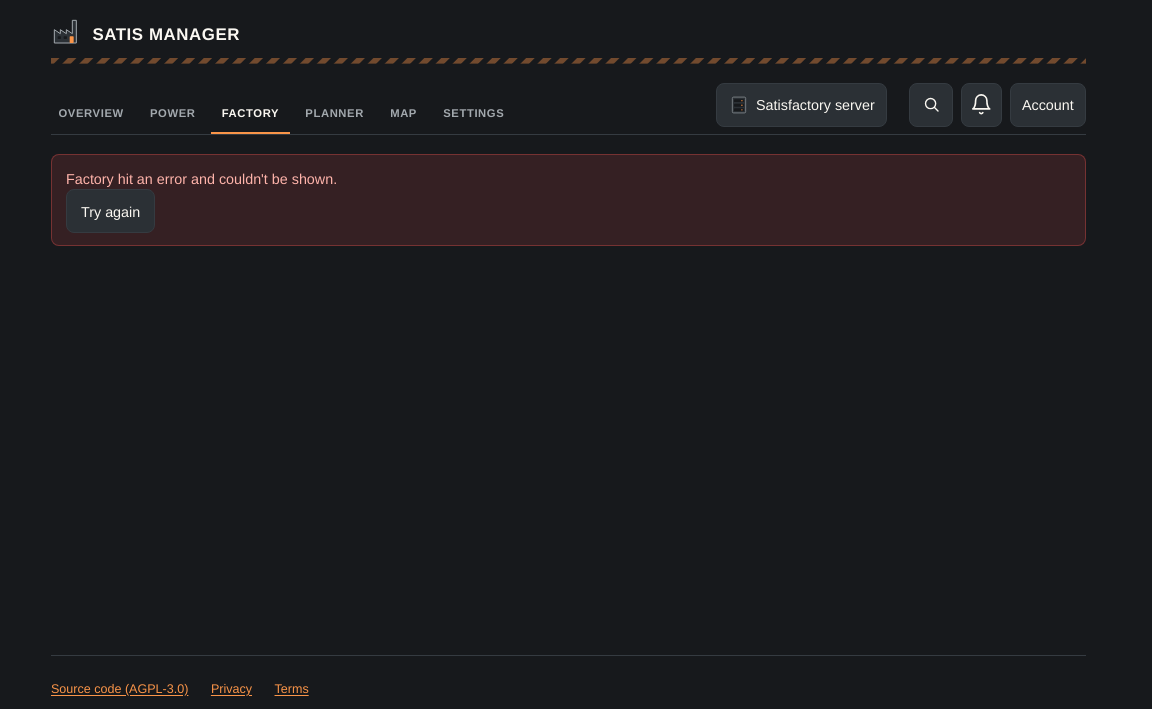
Test case: crash probe across tabs (mock mode) › crashes only the requested page, and not again after leaving and coming back
expect the message named "Factory error" is shown: met, box [51, 154, 1086, 246]
Step 1. Click the link "Power" → [173, 111], box [150, 102, 196, 120]
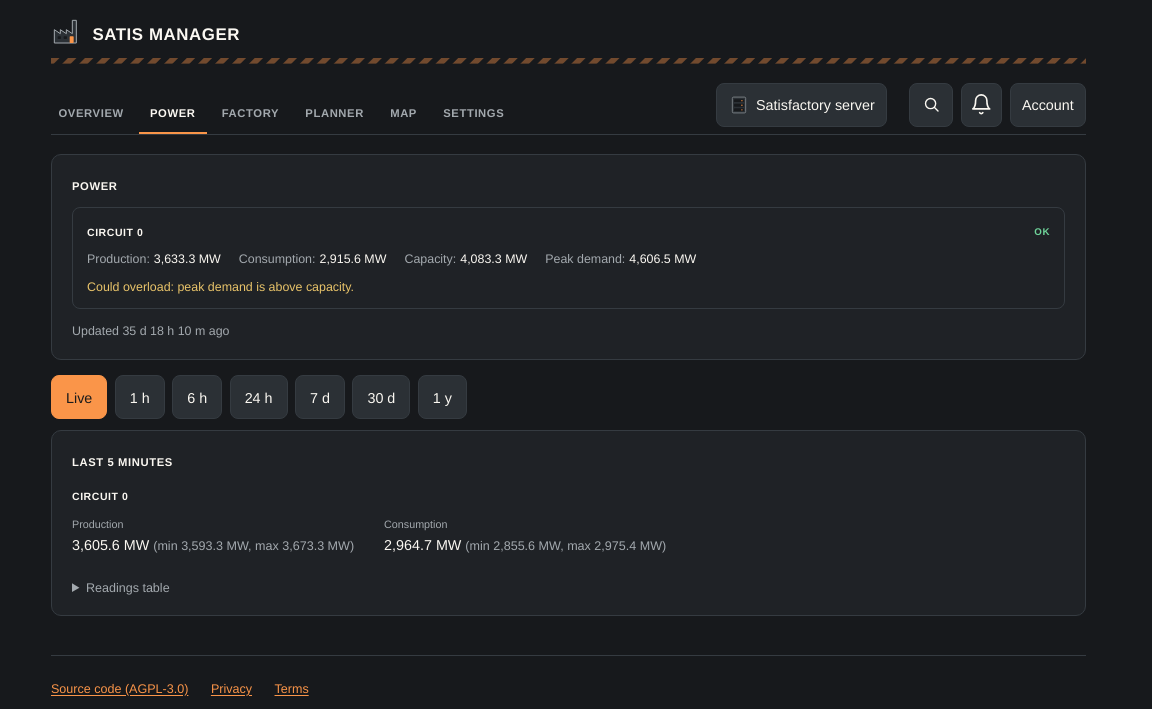
expect the element "Power" is shown: met, box [51, 154, 1086, 360]
expect the text "error" is gone: met
Step 2. Click the link "Factory" → [250, 111], box [222, 102, 279, 120]
(page scrolled)
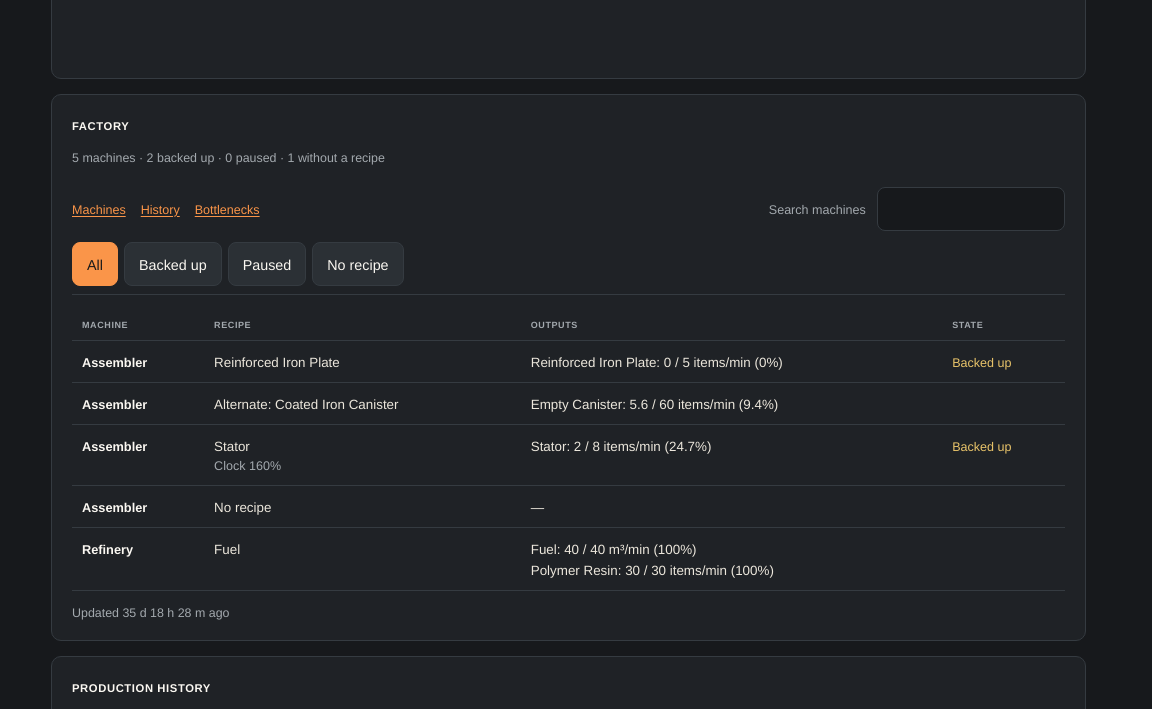
expect the element "Factory" is shown: met
